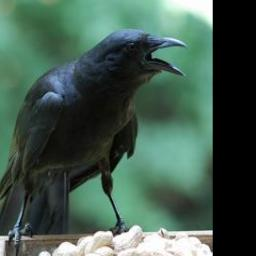Crow: (0, 27, 187, 256)
